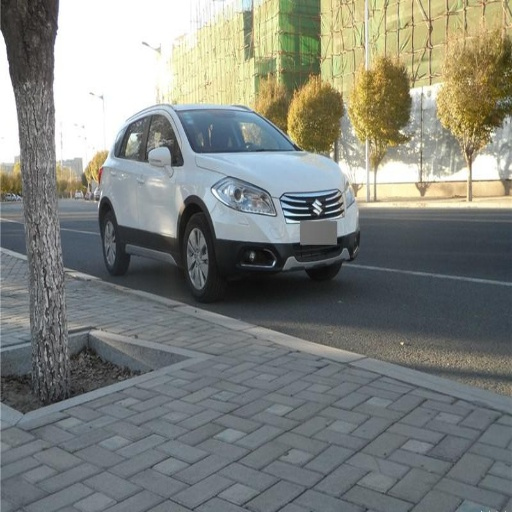front_bumper: (213, 184, 360, 274)
front_right_door: (139, 108, 176, 238)
front_right_light: (213, 177, 276, 216)
